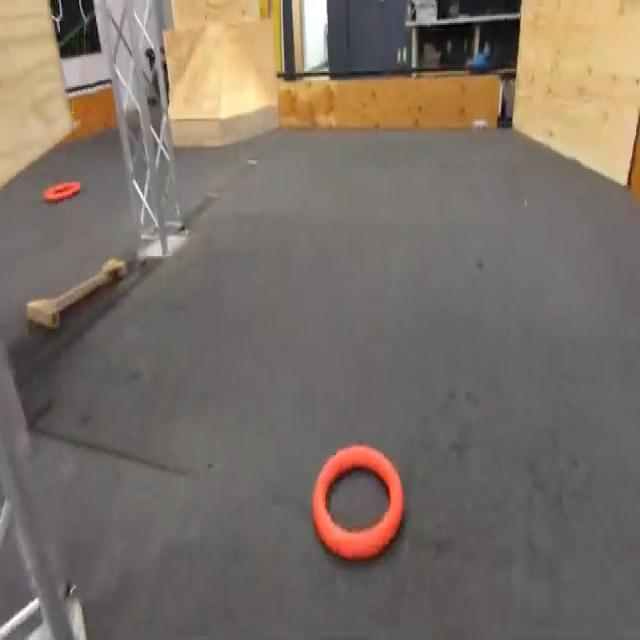note: (312, 448, 404, 558), (43, 180, 81, 203)
